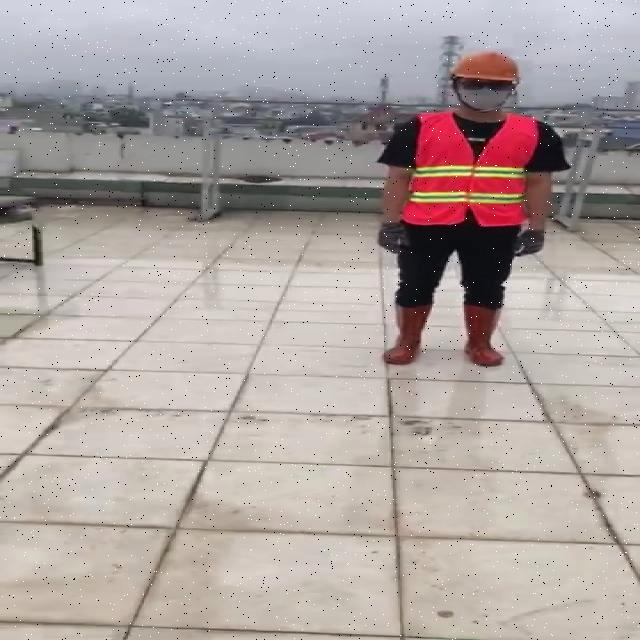Hard_hat: (447, 50, 530, 93)
Vest: (405, 107, 540, 228)
